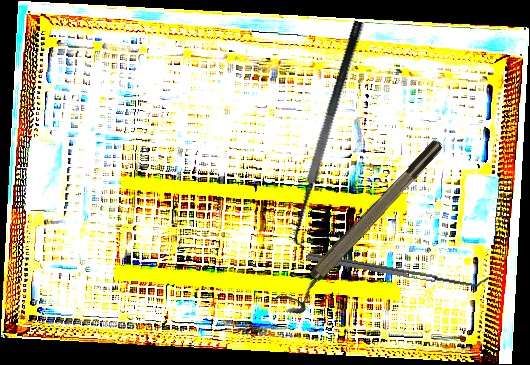Fixation Ring: (274, 135, 454, 321)
Spatula Surgical: (282, 19, 383, 250), (306, 245, 490, 292)
